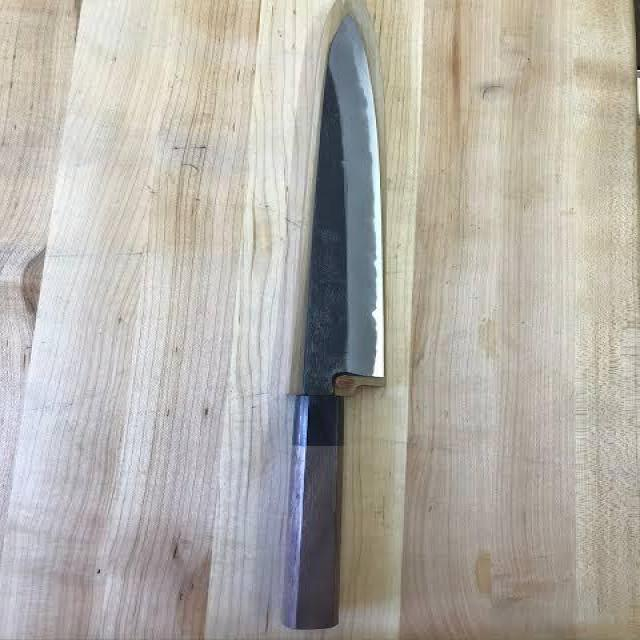knife: (289, 16, 387, 404)
